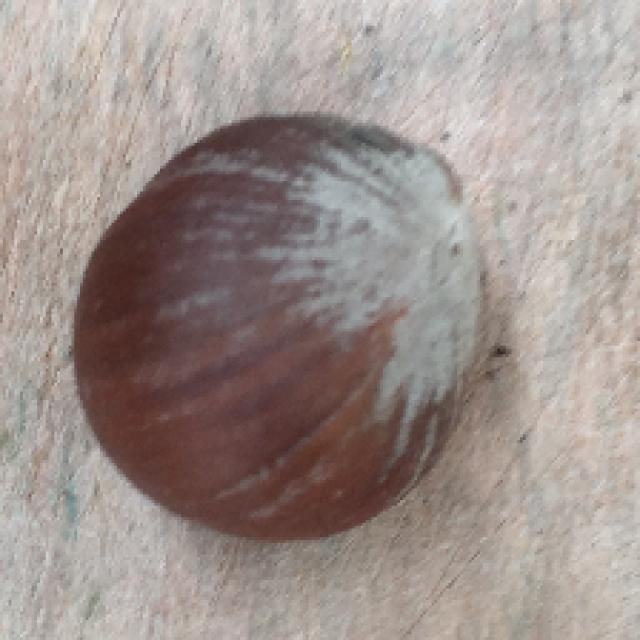qualityHazelnut: (70, 106, 484, 538)
